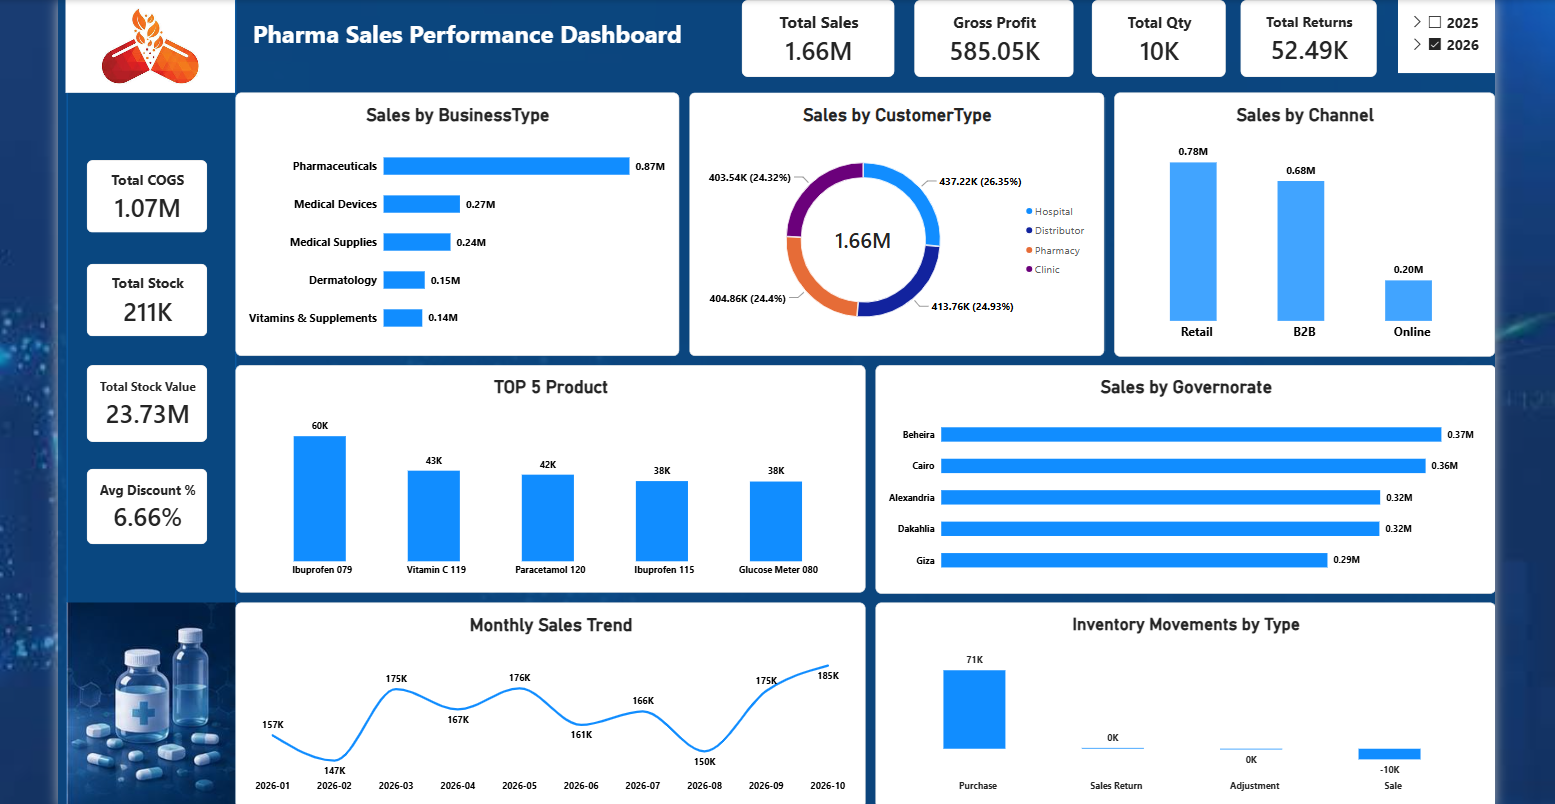

The page's visual inventory and layout, read from the dashboard file:
{"tool":"powerbi","page":{"name":"Page 1","canvas":[1920,1080],"ordinal":0},"visuals":[{"type":"shape","box":[10.9,0,226.4,1080.6],"z":0},{"type":"textbox","box":[251,22.7,592.6,55.8],"z":1},{"type":"image","box":[11.7,804.8,225.4,275.5],"z":2},{"type":"cardVisual","fields":{"Data":["_measures_.Total Sales"]},"box":[913.9,0,204.5,103.2],"z":3},{"type":"cardVisual","fields":{"Data":["_measures_.Gross Profit"]},"box":[1143.7,0,213.5,103.2],"z":4},{"type":"cardVisual","fields":{"Data":["_measures_.Total Qty"]},"box":[1380.8,0,179.2,103.2],"z":5},{"type":"cardVisual","fields":{"Data":["_measures_.Total Stock Value"]},"box":[38,486.8,161.1,103.2],"z":6},{"type":"barChart","title":"Sales by BusinessType","fields":{"Category":["DimCategory.BusinessType"],"Y":["_measures_.Total Sales"]},"box":[237,123.7,592.6,352.1],"z":8},{"type":"donutChart","title":"Sales by CustomerType","fields":{"Category":["DimCustomer.CustomerType"],"Y":["_measures_.Total Sales"]},"box":[843.6,123.7,554.3,352.1],"z":9},{"type":"lineChart","title":"Monthly Sales Trend","fields":{"Category":["DimDate.YearMonth.Variation.Date Hierarchy.Year"],"Y":["_measures_.Total Sales"]},"box":[237.1,805.3,841.5,275.1],"z":10},{"type":"listSlicer","fields":{"Values":["DimDate.Date.Variation.Date Hierarchy.Year","DimDate.Date.Variation.Date Hierarchy.Quarter","DimDate.Date.Variation.Date Hierarchy.Month","DimDate.Date.Variation.Date Hierarchy.Day"]},"box":[1789.8,0,130.3,97.7],"z":11},{"type":"clusteredBarChart","title":"Sales by Governorate","fields":{"Category":["DimCustomer.Governorate"],"Y":["_measures_.Total Sales"]},"box":[1091.2,486.8,828.8,305.8],"z":12},{"type":"columnChart","title":"Sales by Channel","fields":{"Category":["FactSales.SalesChannel"],"Y":["_measures_.Total Sales"]},"box":[1411.5,123.1,508.5,352.9],"z":13},{"type":"cardVisual","fields":{"Data":["_measures_.Total Returnes"]},"box":[1579.8,0,182.8,103.2],"z":15},{"type":"image","box":[10.5,0,226.6,123.7],"z":16},{"type":"cardVisual","fields":{"Data":["_measures_.Total Stock"]},"box":[38,352.9,161.1,97.7],"z":17},{"type":"cardVisual","fields":{"Data":["_measures_.Avg Discount"]},"box":[38,626.1,161.1,101.3],"z":18},{"type":"columnChart","title":"TOP 5  Product","fields":{"Category":["DimProduct.ProductName"],"Y":["_measures_.Total Sales"]},"box":[237.1,486.8,841.5,304],"z":23},{"type":"cardVisual","fields":{"Data":["_measures_.Total COGS"]},"box":[38,213.5,161.1,97.7],"z":24},{"type":"columnChart","title":"Inventory Movements by Type","fields":{"Category":["FactInventoryMovements.MovementType"],"Y":["Sum(FactInventoryMovements.SignedQuantity)"]},"box":[1091.2,805.3,828.8,275.1],"z":25}]}

Visuals, with their boxes in screenshot pixels (x1, y1, x2, y2):
shape: rect(57, 0, 230, 803)
textbox: rect(240, 5, 692, 48)
image: rect(58, 602, 229, 803)
cardVisual - _measures_.Total Sales: rect(746, 0, 902, 67)
cardVisual - _measures_.Gross Profit: rect(921, 0, 1084, 67)
cardVisual - _measures_.Total Qty: rect(1102, 0, 1239, 67)
cardVisual - _measures_.Total Stock Value: rect(78, 359, 200, 438)
"Sales by BusinessType" barChart: rect(229, 82, 681, 351)
"Sales by CustomerType" donutChart: rect(692, 82, 1115, 351)
"Monthly Sales Trend" lineChart: rect(229, 602, 871, 803)
listSlicer - DimDate.Date.Variation.Date Hierarchy.Year x DimDate.Date.Variation.Date Hierarchy.Quarter: rect(1414, 0, 1513, 62)
"Sales by Governorate" clusteredBarChart: rect(881, 359, 1513, 593)
"Sales by Channel" columnChart: rect(1125, 82, 1513, 351)
cardVisual - _measures_.Total Returnes: rect(1254, 0, 1393, 67)
image: rect(57, 0, 229, 82)
cardVisual - _measures_.Total Stock: rect(78, 257, 200, 332)
cardVisual - _measures_.Avg Discount: rect(78, 465, 200, 543)
"TOP 5  Product" columnChart: rect(229, 359, 871, 591)
cardVisual - _measures_.Total COGS: rect(78, 151, 200, 225)
"Inventory Movements by Type" columnChart: rect(881, 602, 1513, 803)
